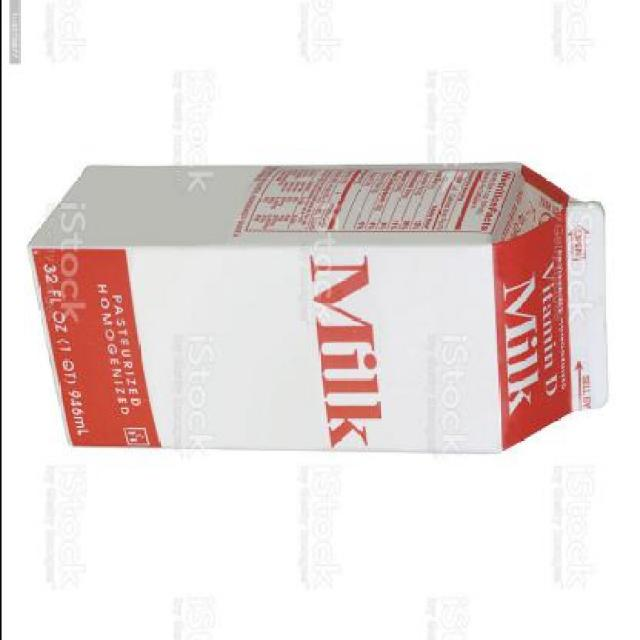non_white_jug: (21, 144, 616, 479)
